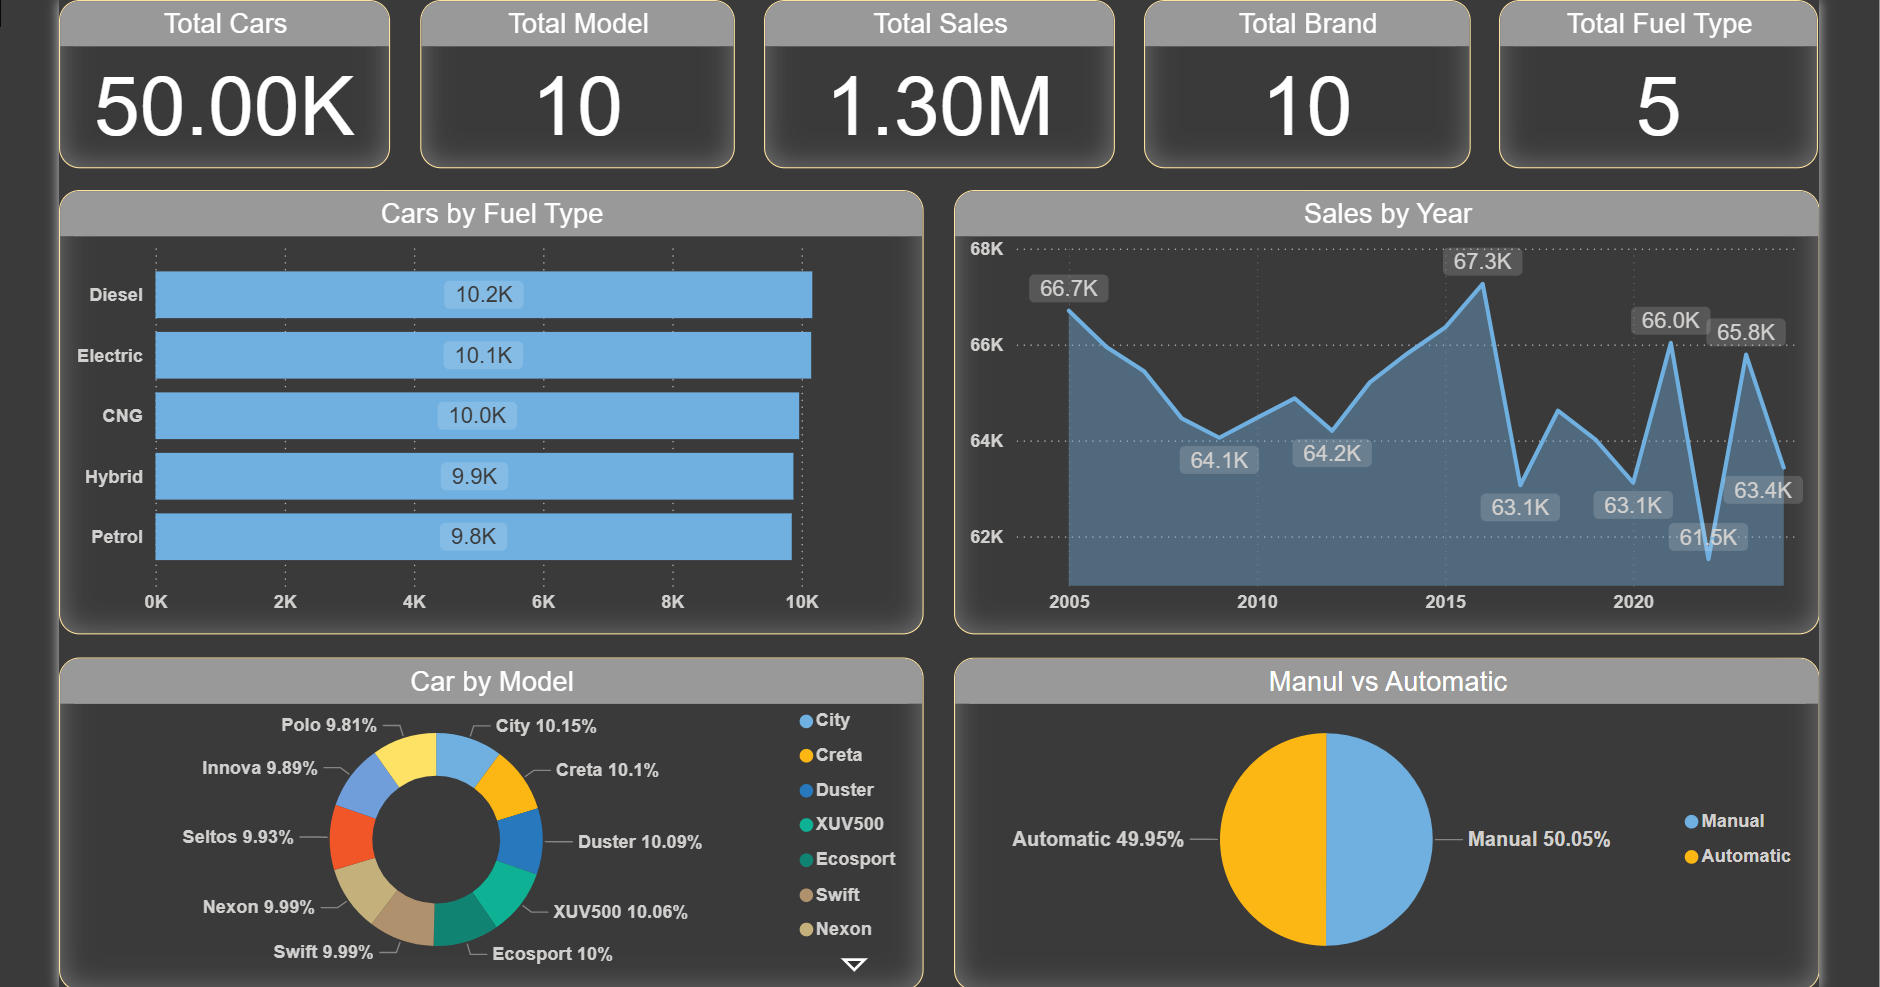

What the dashboard file says about the page in this screenshot:
{"tool":"powerbi","page":{"name":"Dashboard","canvas":[1280,720],"ordinal":0},"visuals":[{"type":"barChart","title":"Cars by Fuel Type","fields":{"Y":["CountNonNull(Car_Data.Car_ID)"],"Category":["Car_Data.Fuel_Type"]},"box":[0,138.2,628.5,322.8],"z":0},{"type":"card","title":"Total Cars","fields":{"Values":["Count(Car_Data.Car_ID)"]},"box":[0,0,240.9,122.3],"z":1000},{"type":"card","title":"Total Model","fields":{"Values":["Count(Car_Data.Model)"]},"box":[262.3,0,228.7,122.3],"z":2000},{"type":"card","title":"Total Sales","fields":{"Values":["Car_Data.Sale"]},"box":[512.4,0,255.6,122.3],"z":3000},{"type":"card","title":"Total Fuel Type","fields":{"Values":["Count(Car_Data.Fuel_Type)"]},"box":[1047.7,0,232.3,122.3],"z":4000},{"type":"card","title":"Total Brand","fields":{"Values":["Count(Car_Data.Brand)"]},"box":[789.3,0,237.2,122.3],"z":5000},{"type":"donutChart","title":"Car by Model","fields":{"Category":["Car_Data.Model"],"Y":["CountNonNull(Car_Data.Car_ID)"]},"box":[0,478.1,628.5,242.1],"z":6000},{"type":"pieChart","title":"Manul vs Automatic","fields":{"Y":["CountNonNull(Car_Data.Car_ID)"],"Category":["Car_Data.Transmission"]},"box":[650.5,478.1,629.8,242.1],"z":7000},{"type":"areaChart","title":"Sales by Year","fields":{"Category":["Car_Data.Year"],"Y":["Sum(Car_Data.Sale_Price_Lakh)"]},"box":[650.5,138.2,629.8,322.8],"z":8000}]}

Visuals, with their boxes on the page's 1280x720 design canvas (x1, y1, x2, y2). These are canvas units, not pixel positions in the 1880x987 screenshot, which may show the page scaled, cropped or inside an application window:
"Cars by Fuel Type" barChart: bbox=(0, 138, 628, 461)
"Total Cars" card: bbox=(0, 0, 241, 122)
"Total Model" card: bbox=(262, 0, 491, 122)
"Total Sales" card: bbox=(512, 0, 768, 122)
"Total Fuel Type" card: bbox=(1048, 0, 1280, 122)
"Total Brand" card: bbox=(789, 0, 1026, 122)
"Car by Model" donutChart: bbox=(0, 478, 628, 720)
"Manul vs Automatic" pieChart: bbox=(650, 478, 1280, 720)
"Sales by Year" areaChart: bbox=(650, 138, 1280, 461)
